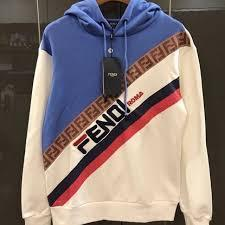sweater: (21, 1, 210, 225)
